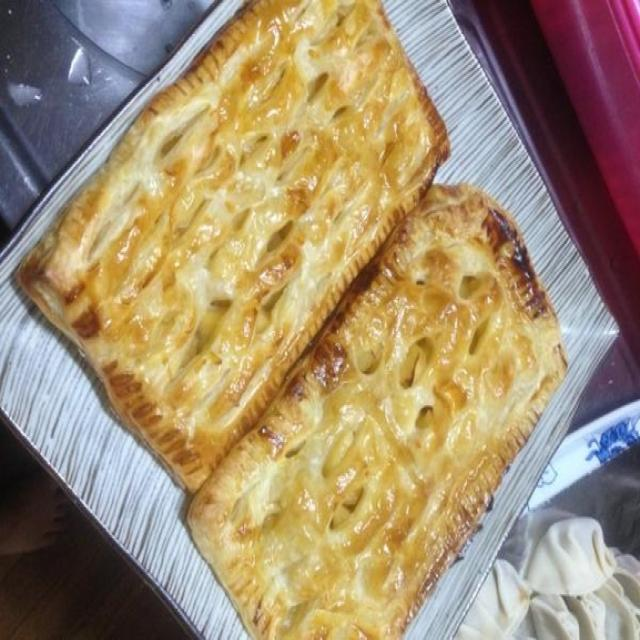炸货点心: (28, 8, 591, 631)
蛋糕甜品: (28, 8, 591, 631)
